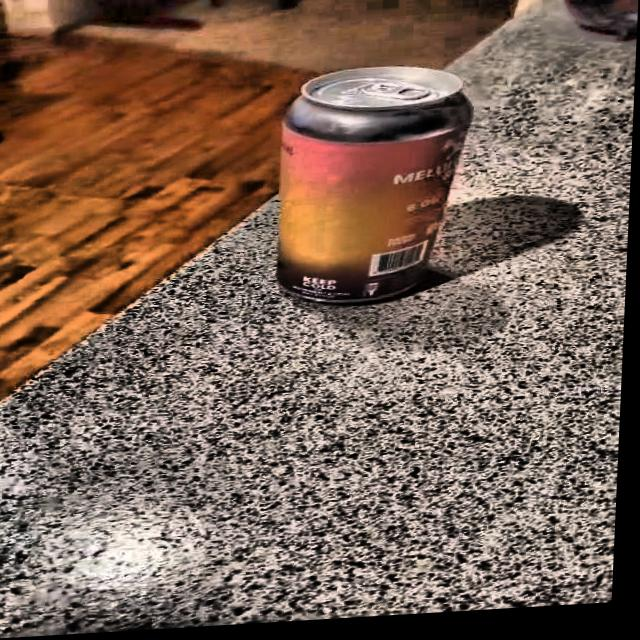can: (268, 55, 484, 330)
